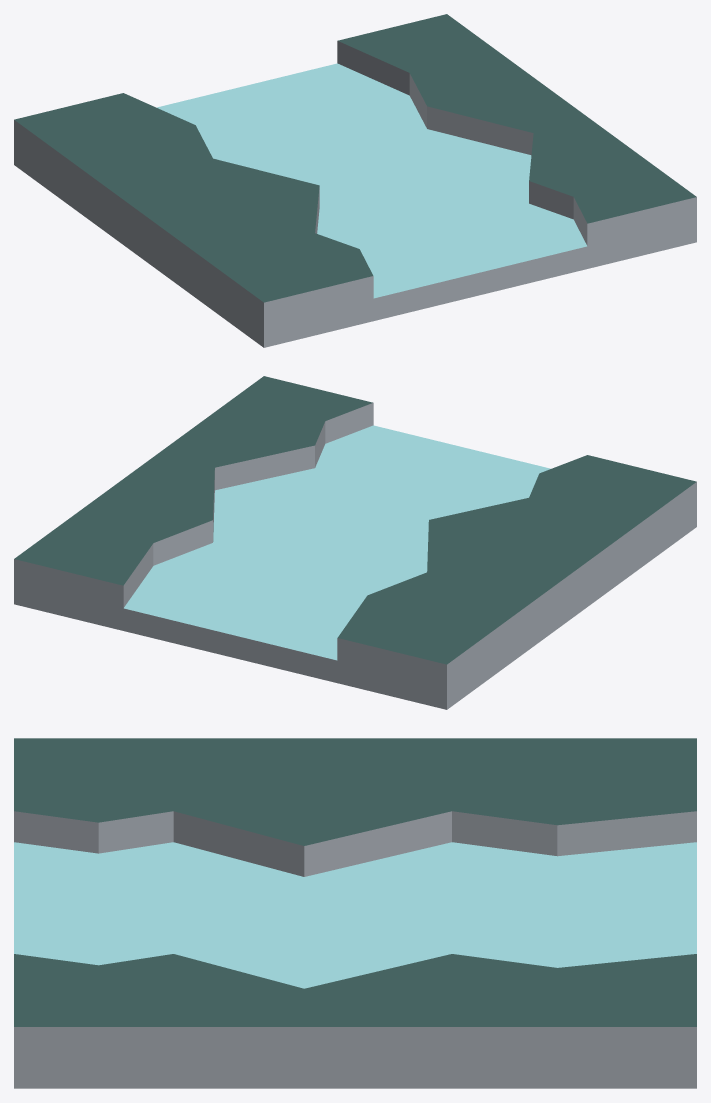
The model's file is naturePack_093.fbx.
The picture shows the model from 3 angles, top to bottom: view 1: azimuth 30°, elevation 25°; view 2: azimuth 150°, elevation 25°; view 3: azimuth 270°, elevation 25°; orthographic projection. The views are drawn at different scales.
Parts seen in each view (by area): view 1: Mesh1_Plate_River Model; view 2: Mesh1_Plate_River Model; view 3: Mesh1_Plate_River Model.
Part boxes in pixels (box(x1,y1,x2,y2)): Mesh1_Plate_River Model: box(14, 14, 696, 347); Mesh1_Plate_River Model: box(14, 376, 696, 709); Mesh1_Plate_River Model: box(14, 738, 696, 1088).
Bounding box in the file's own units: 3 × 0.3 × 3.
